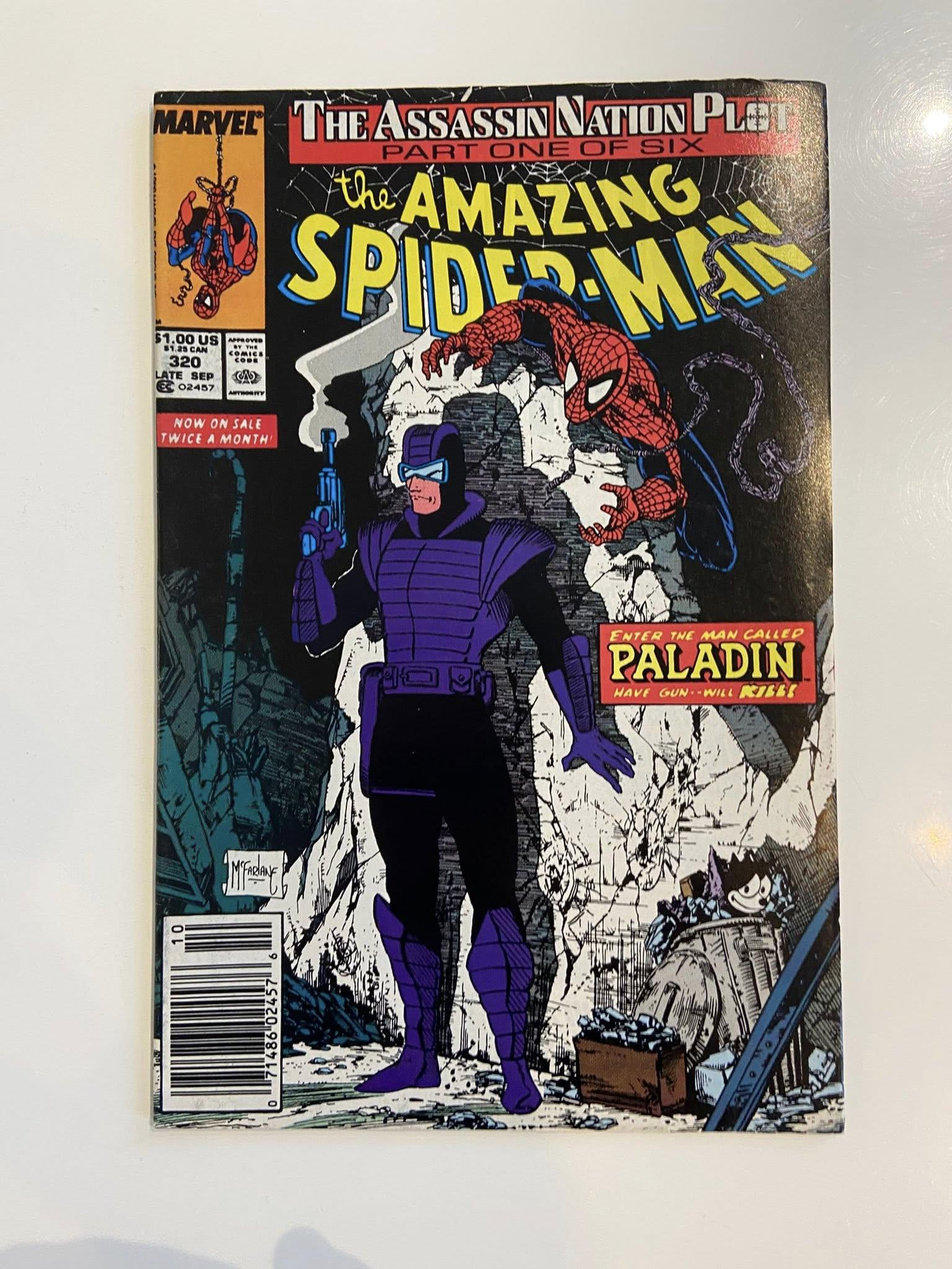comic: (153, 80, 842, 1131)
